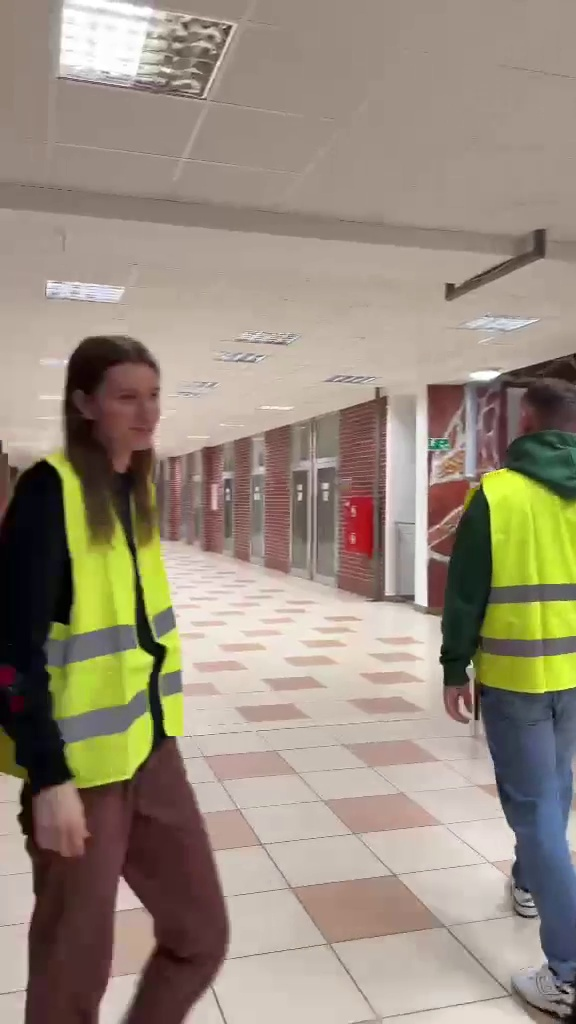vest: (4, 335, 223, 1014), (433, 373, 576, 1018)
